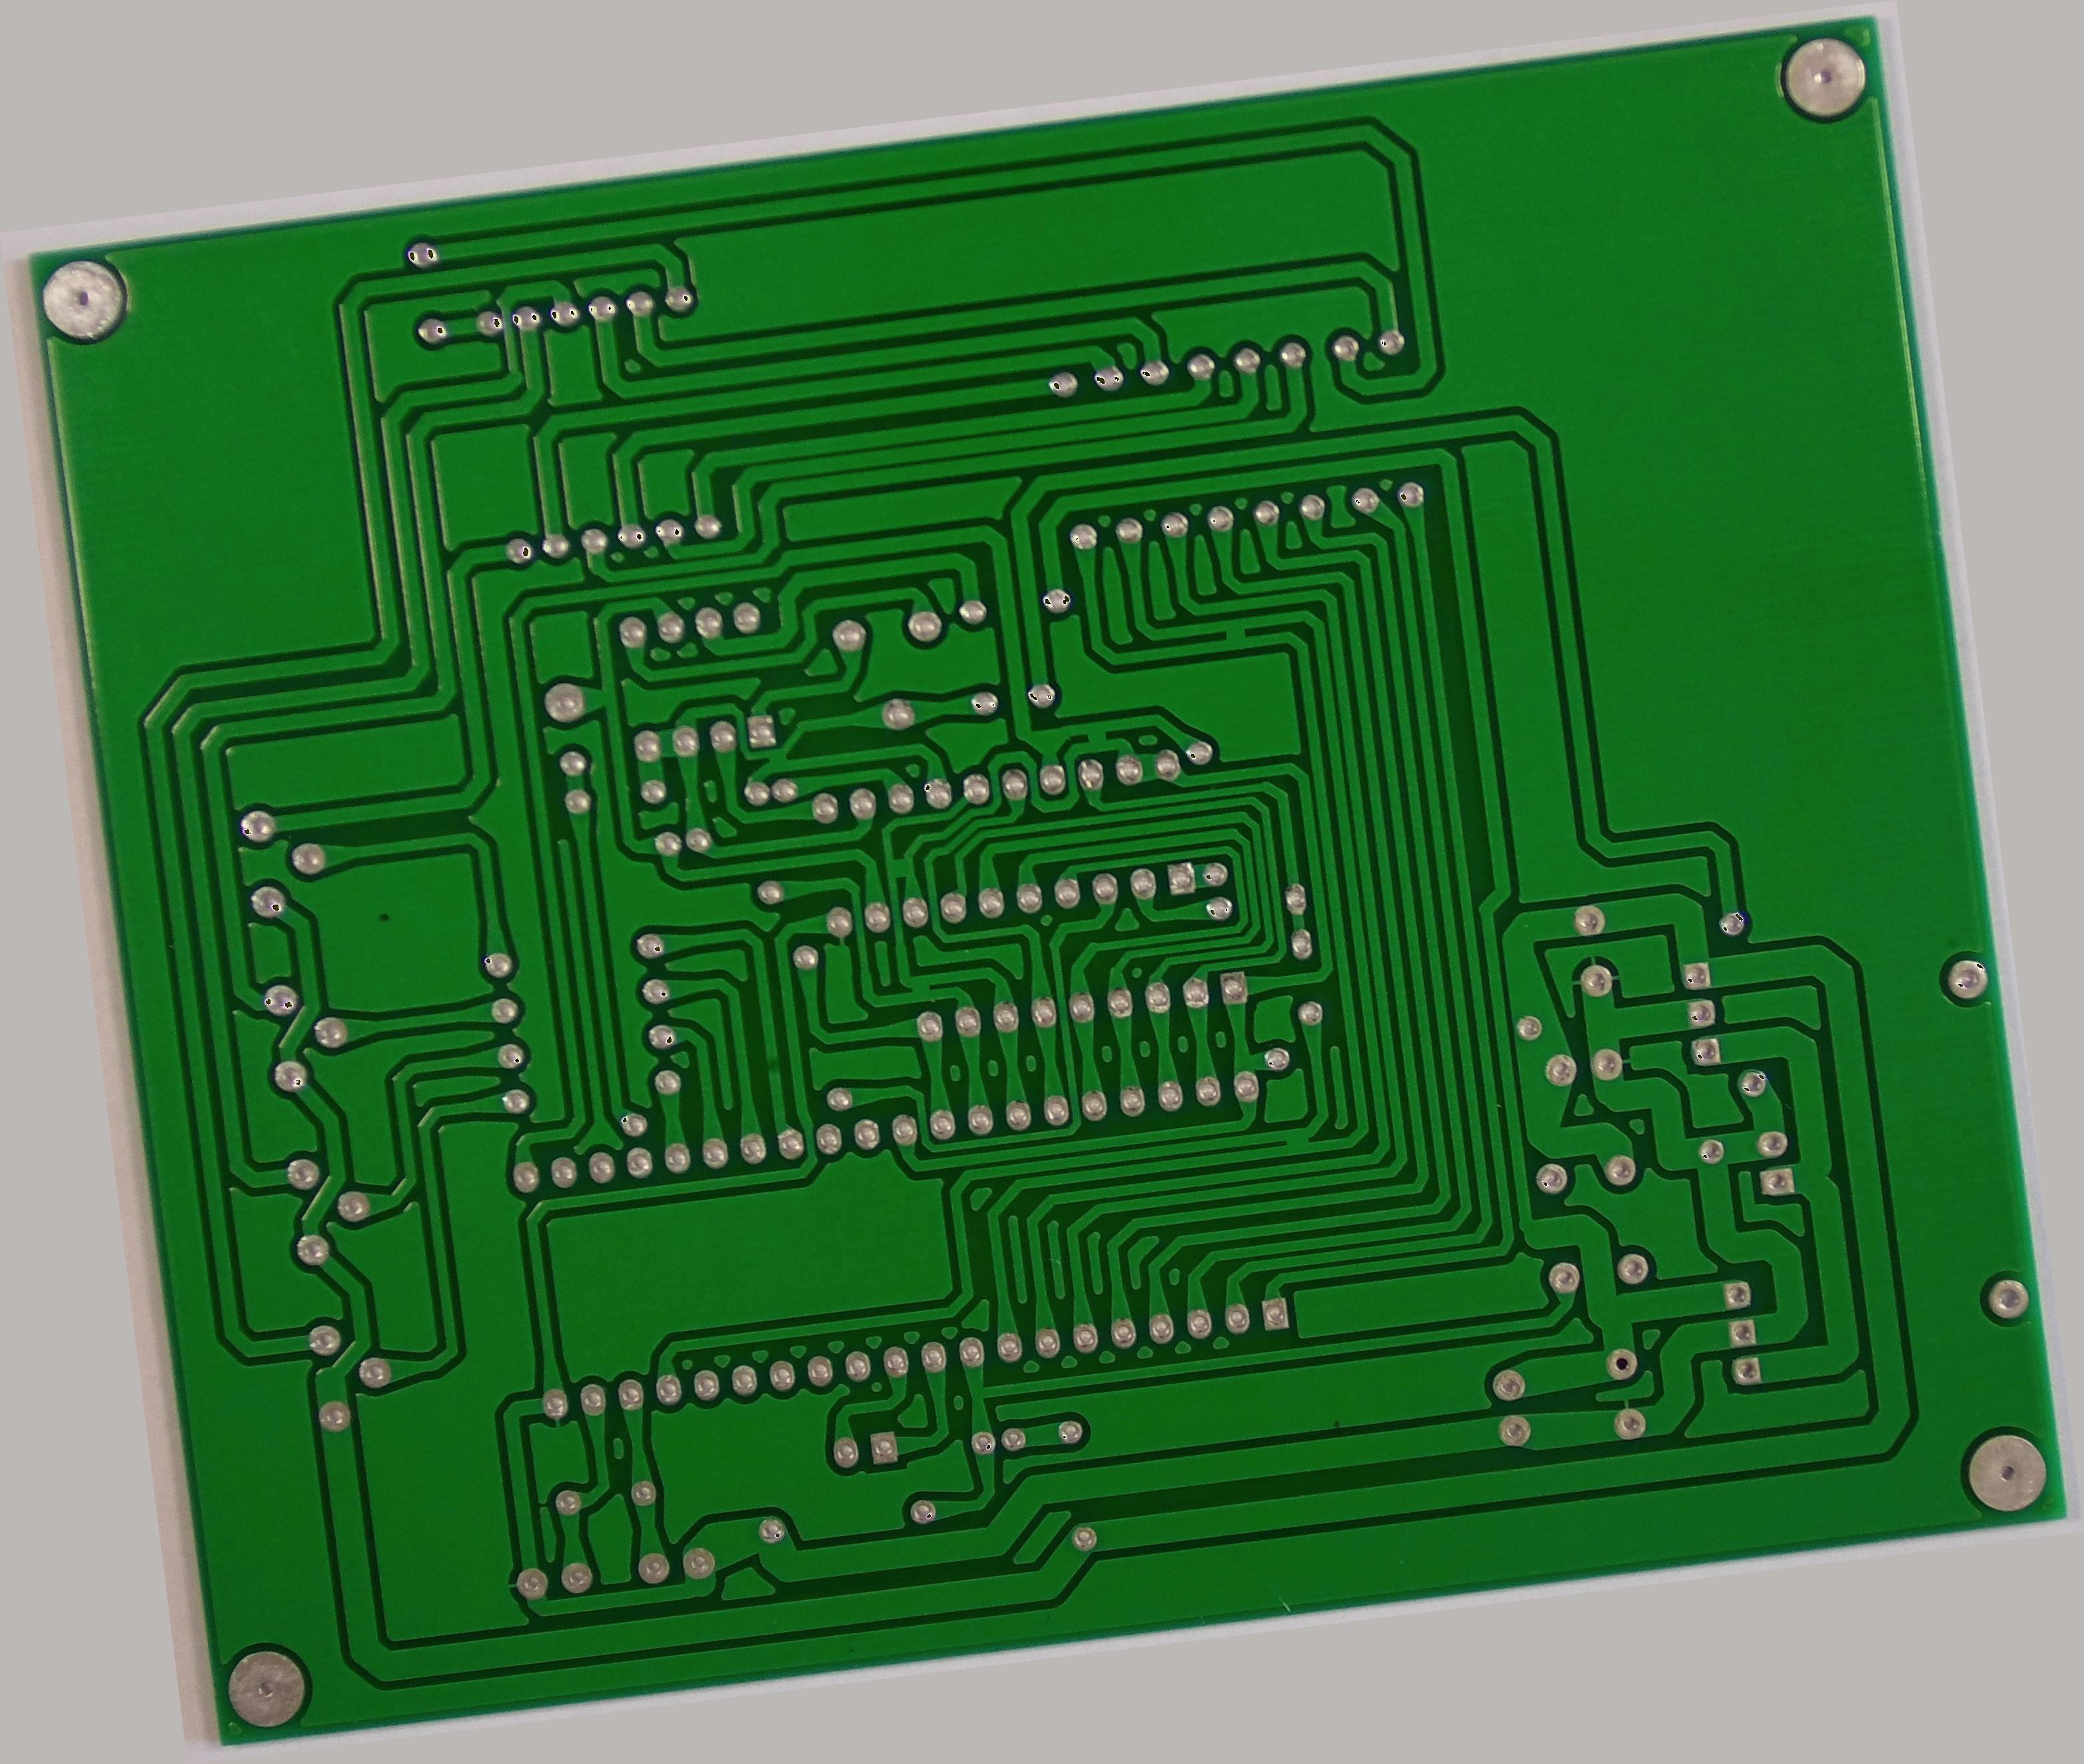short: (899, 964, 945, 1010), (1073, 712, 1118, 754), (1274, 1120, 1319, 1162), (1214, 614, 1260, 654), (880, 847, 922, 885)
